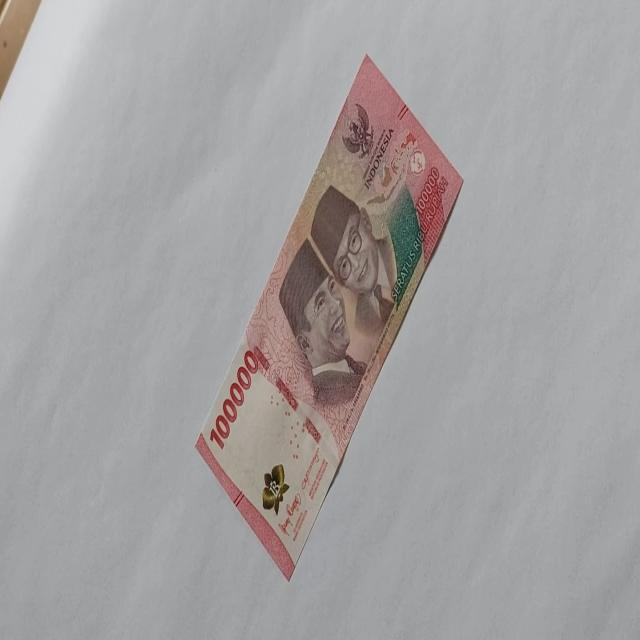seratus ribu rupiah: (194, 52, 464, 580)
